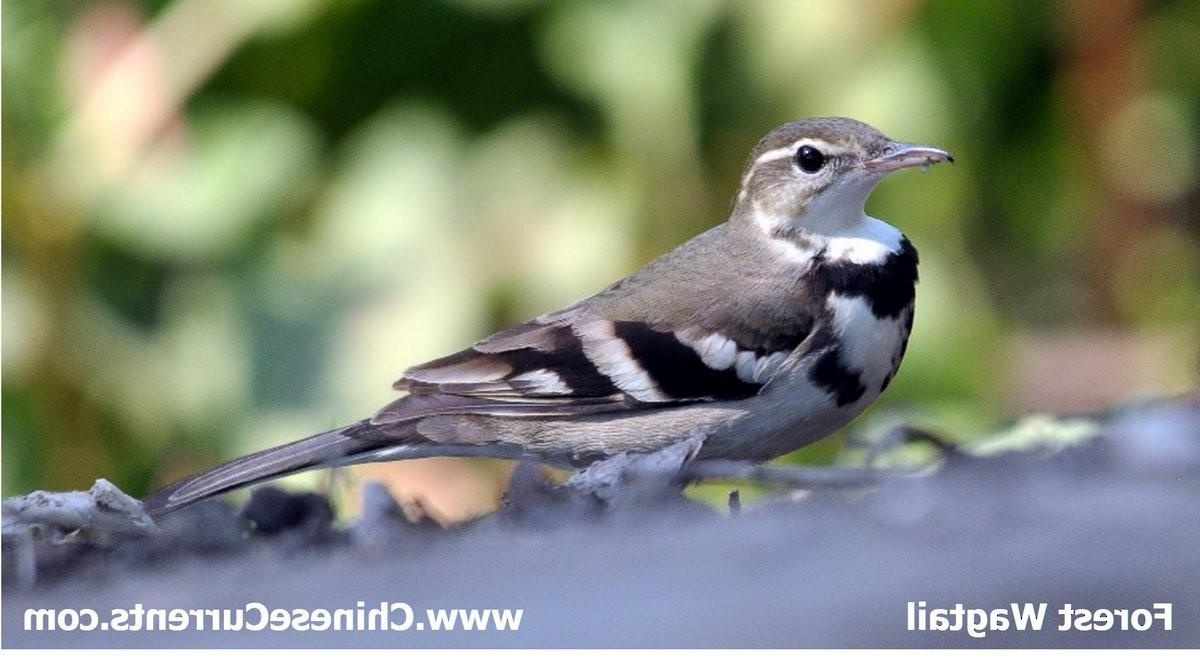wagtail: (393, 75, 998, 490)
